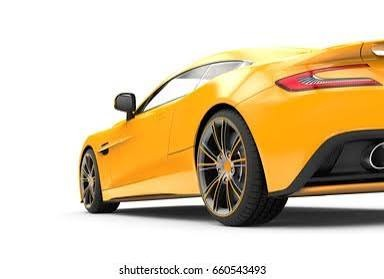car: (70, 38, 377, 222), (74, 43, 384, 221)
